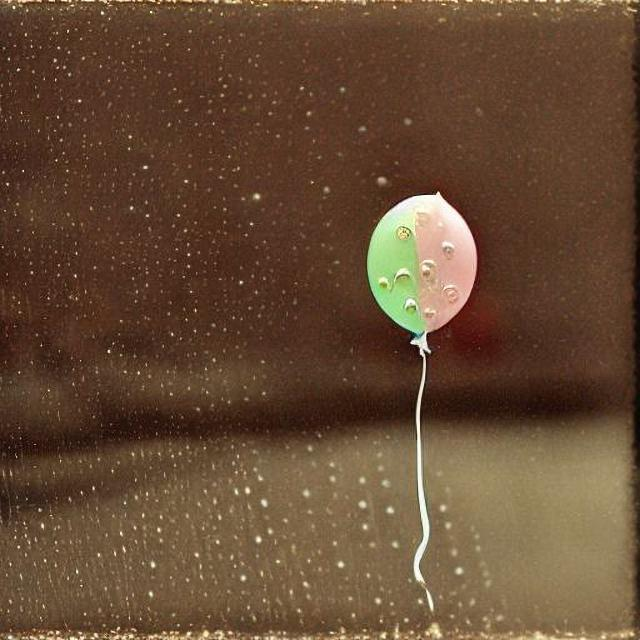balloon: (363, 198, 483, 338)
